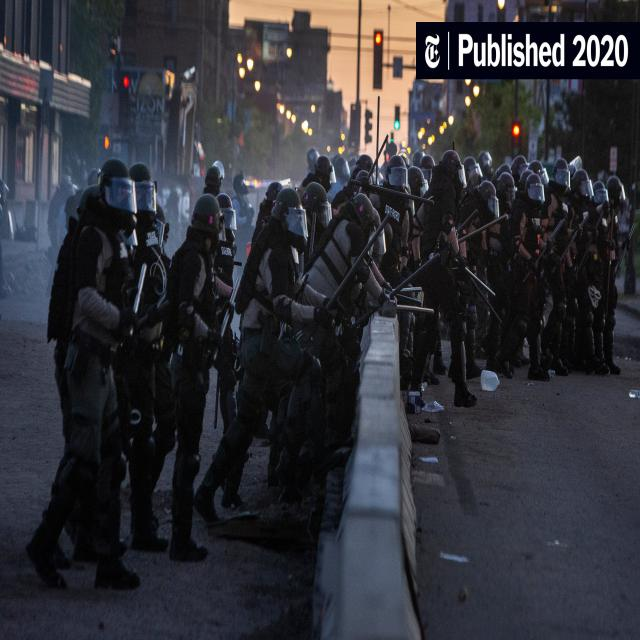police: (20, 150, 144, 604), (126, 172, 239, 590), (313, 145, 508, 382), (200, 173, 316, 547), (515, 153, 640, 387)
